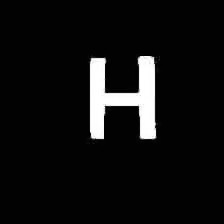LTR_H: (84, 49, 160, 142)
